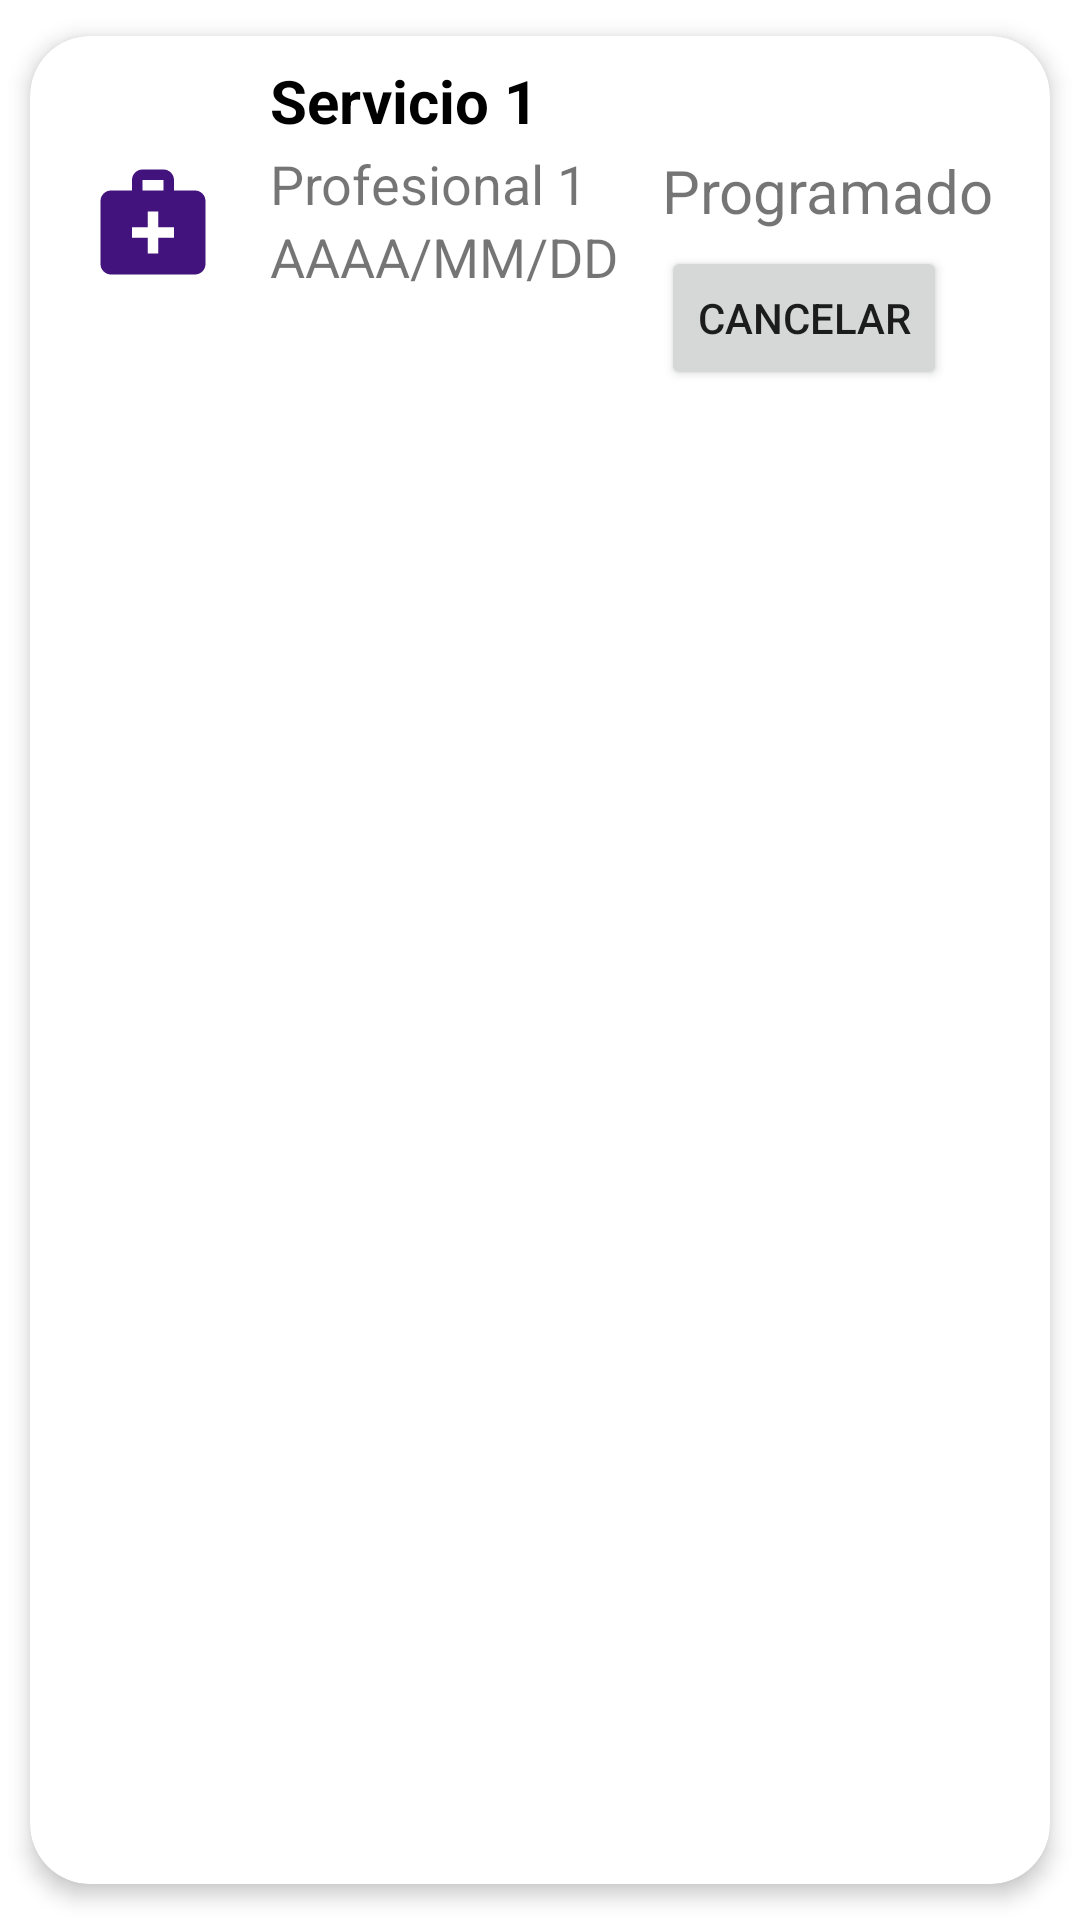

Icon bounding boxes for this 1080x1920 phone screenshot, format detection(x1, y1, x2, y2):
medical services: detection(100, 169, 206, 275)
